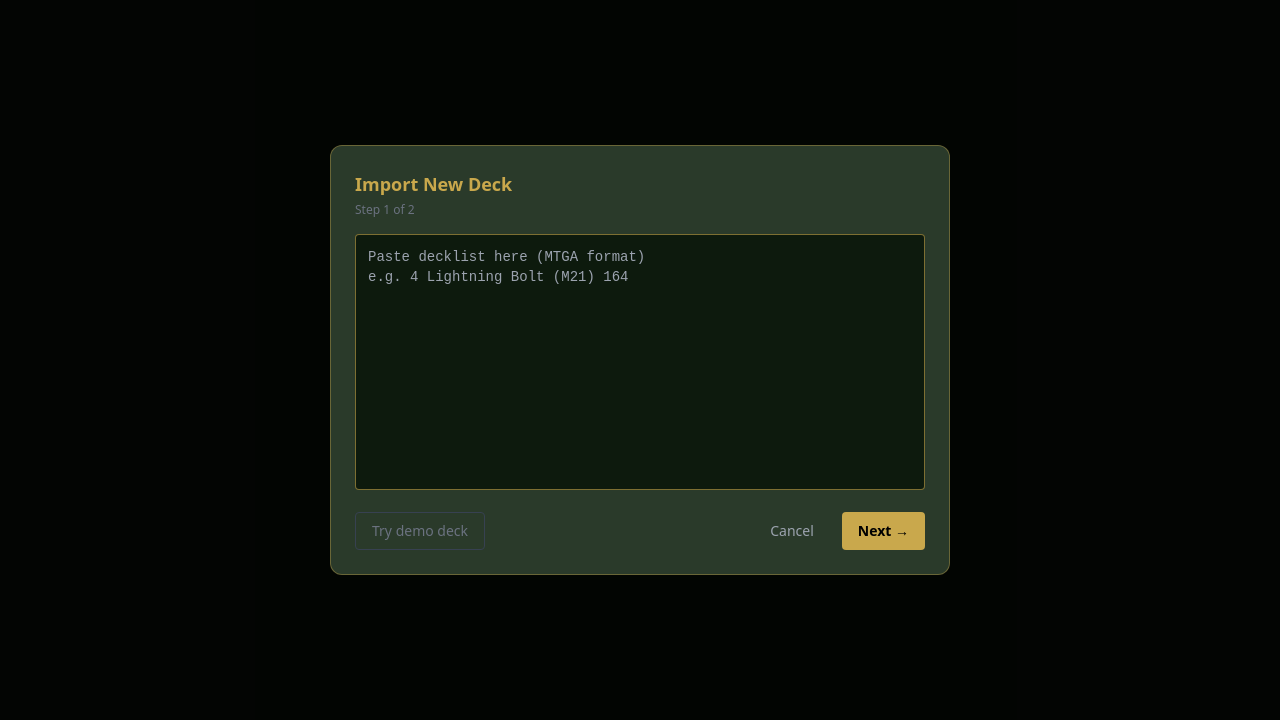
Test: StartGameWizard › advances to step 2 with valid decklist
Step 1. Type "1 Forest" into the text box with test id "decklist-input" → (640, 362), box [355, 234, 925, 490]
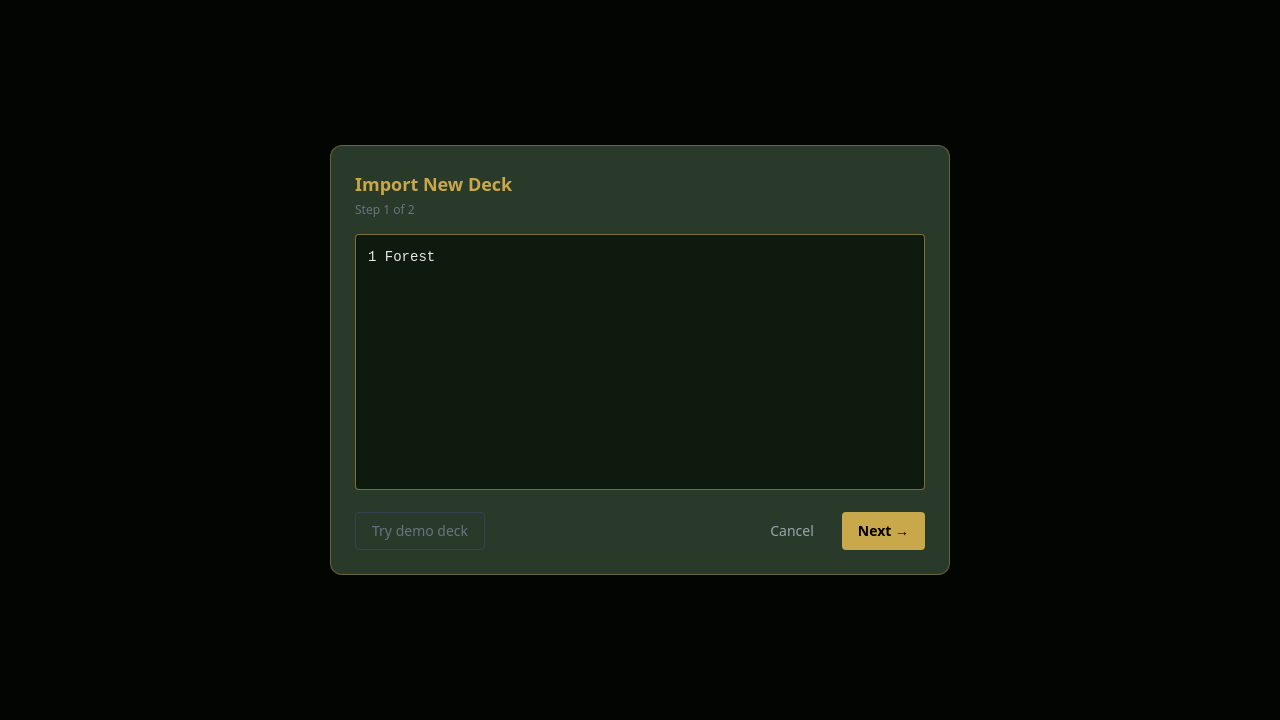
Step 2. Click the button "Next →" → (883, 531), box [842, 512, 925, 550]
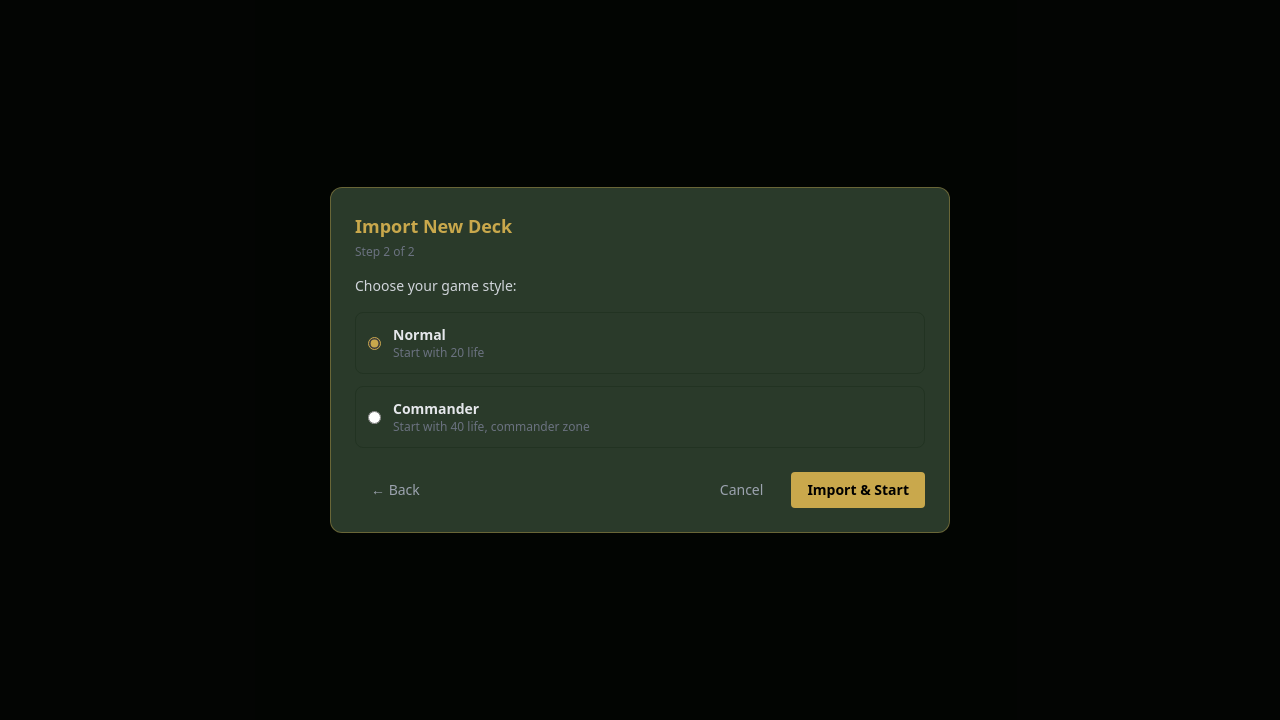
Check: the radio button labelled "Normal Start with 20 life" is shown, box [368, 336, 381, 350]
